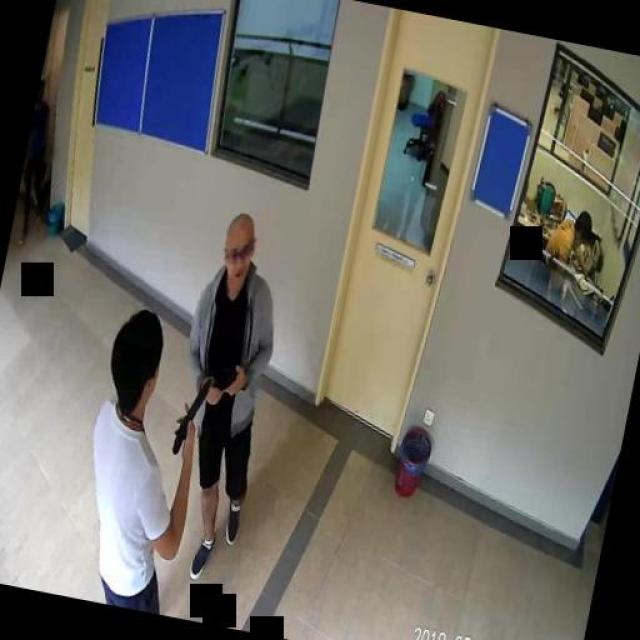gun: (171, 375, 210, 457)
